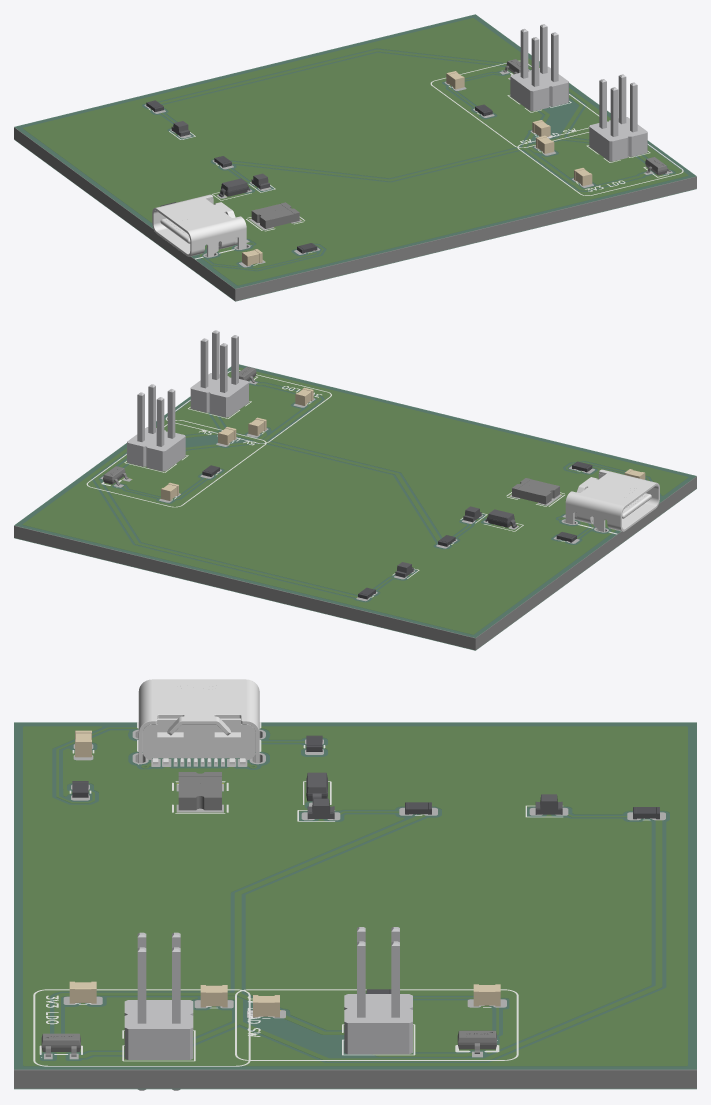
File: board.glb
3 renders of one model, top to bottom at view 1: azimuth 30°, elevation 25°; view 2: azimuth 150°, elevation 25°; view 3: azimuth 270°, elevation 25°, orthographic. The views are drawn at different scales.
Visible parts, largest first — view 1: =>[0:1:1:14], =>[0:1:1:10], =>[0:1:1:16], J1, J2, J3, =>[0:1:1:13], F1, =>[0:1:1:11], =>[0:1:1:15]; view 2: =>[0:1:1:14], =>[0:1:1:10], =>[0:1:1:16], J1, J2, J3, =>[0:1:1:13], F1, =>[0:1:1:11], =>[0:1:1:15]; view 3: =>[0:1:1:14], =>[0:1:1:10], =>[0:1:1:16], J1, J3, J2, =>[0:1:1:13], =>[0:1:1:11], F1, =>[0:1:1:15], Q1, U1 (+1 smaller).
Part boxes in pixels (left/top/right/bottom): =>[0:1:1:14]: left=14, top=14, right=696, bottom=288; =>[0:1:1:10]: left=23, top=18, right=687, bottom=284; =>[0:1:1:16]: left=14, top=15, right=696, bottom=301; J1: left=152, top=194, right=246, bottom=256; J2: left=510, top=24, right=568, bottom=111; J3: left=589, top=74, right=647, bottom=161; =>[0:1:1:13]: left=147, top=60, right=683, bottom=265; F1: left=251, top=202, right=299, bottom=228; =>[0:1:1:11]: left=144, top=69, right=672, bottom=267; =>[0:1:1:15]: left=15, top=140, right=696, bottom=301; =>[0:1:1:14]: left=14, top=364, right=696, bottom=637; =>[0:1:1:10]: left=23, top=368, right=687, bottom=634; =>[0:1:1:16]: left=14, top=365, right=696, bottom=650; J1: left=565, top=469, right=659, bottom=531; J2: left=127, top=384, right=185, bottom=471; J3: left=190, top=330, right=248, bottom=417; =>[0:1:1:13]: left=86, top=370, right=617, bottom=598; F1: left=512, top=478, right=559, bottom=504; =>[0:1:1:11]: left=100, top=380, right=608, bottom=601; =>[0:1:1:15]: left=14, top=488, right=696, bottom=650; =>[0:1:1:14]: left=14, top=722, right=696, bottom=1069; =>[0:1:1:10]: left=23, top=727, right=687, bottom=1065; =>[0:1:1:16]: left=14, top=723, right=696, bottom=1088; J1: left=138, top=679, right=259, bottom=764; J3: left=124, top=932, right=193, bottom=1090; J2: left=344, top=927, right=412, bottom=1054; =>[0:1:1:13]: left=33, top=722, right=655, bottom=1066; =>[0:1:1:11]: left=44, top=729, right=665, bottom=1059; F1: left=178, top=772, right=221, bottom=810; =>[0:1:1:15]: left=14, top=1088, right=696, bottom=1089; Q1: left=457, top=1030, right=496, bottom=1053; U1: left=41, top=1033, right=80, bottom=1056.
Size of the model in its own units: 0.0613 by 0.0115 by 0.0505.
